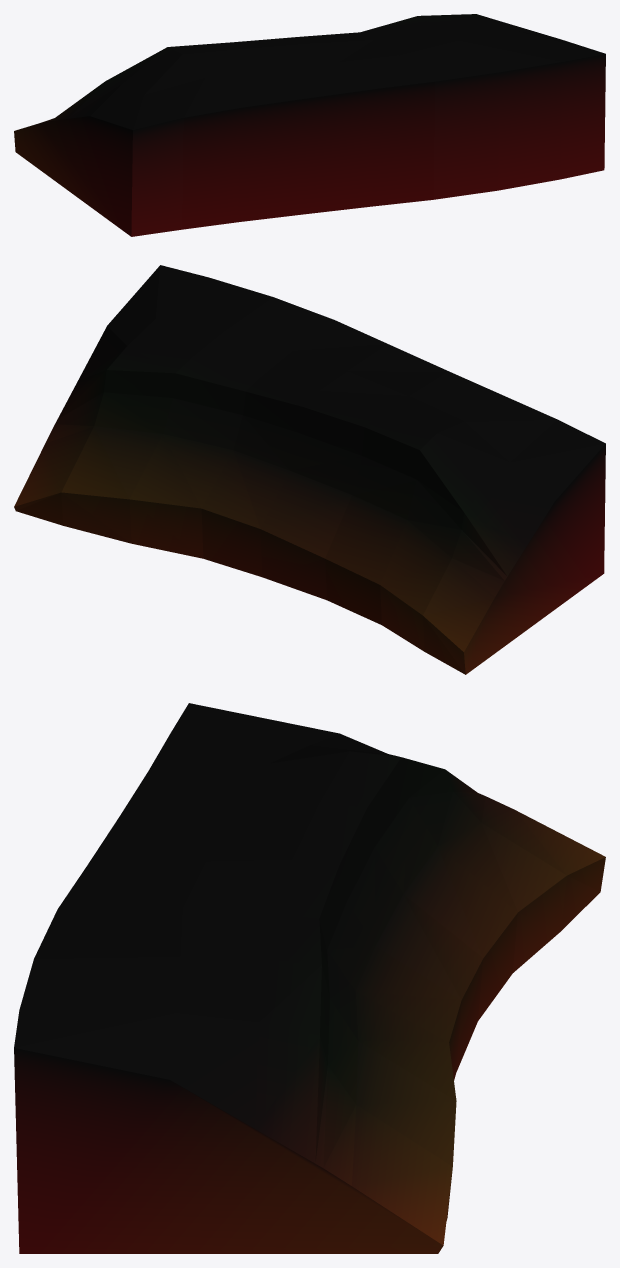
Rendered from SM_ShorelineSite_BankWest.fbx.
The picture shows the model from 3 angles, top to bottom: view 1: azimuth 30°, elevation 25°; view 2: azimuth 150°, elevation 25°; view 3: azimuth 270°, elevation 25°; orthographic projection. The views are drawn at different scales.
Parts seen in each view (by area): view 1: SM_ShorelineSite_BankWest; view 2: SM_ShorelineSite_BankWest; view 3: SM_ShorelineSite_BankWest.
Part boxes in pixels (<box>): SM_ShorelineSite_BankWest: <box>14,14,605,236</box>; SM_ShorelineSite_BankWest: <box>14,265,605,674</box>; SM_ShorelineSite_BankWest: <box>14,703,605,1253</box>.
Size of the model in its own units: 4 by 2.77 by 1.15.
